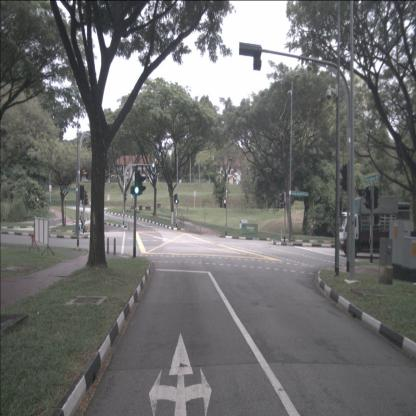human-pedestrian-adult: (79, 211, 83, 230)
vehicle-truck: (336, 195, 399, 257)
